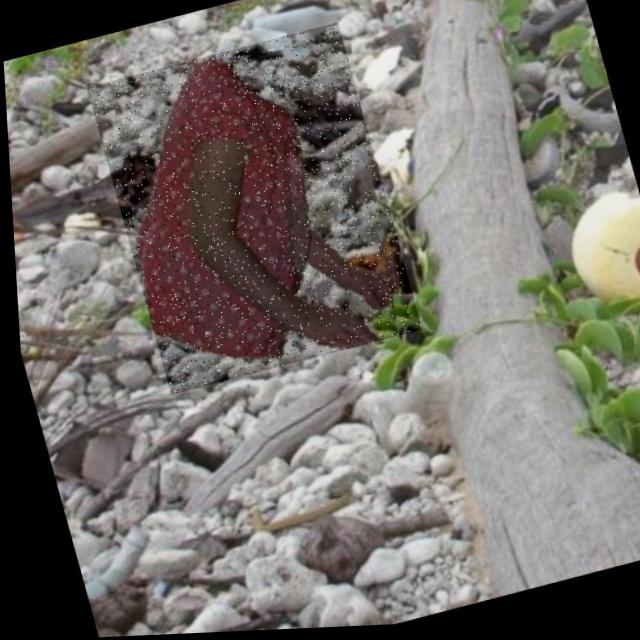Person in Rubble: (83, 22, 420, 398)
